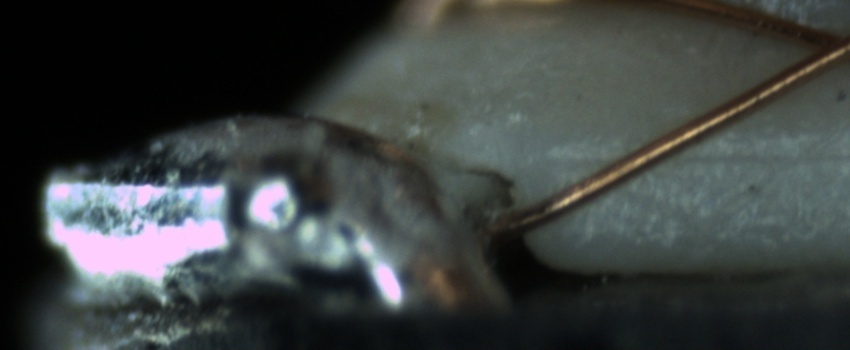CL: (780, 13, 849, 79)
DL: (559, 122, 849, 186)
